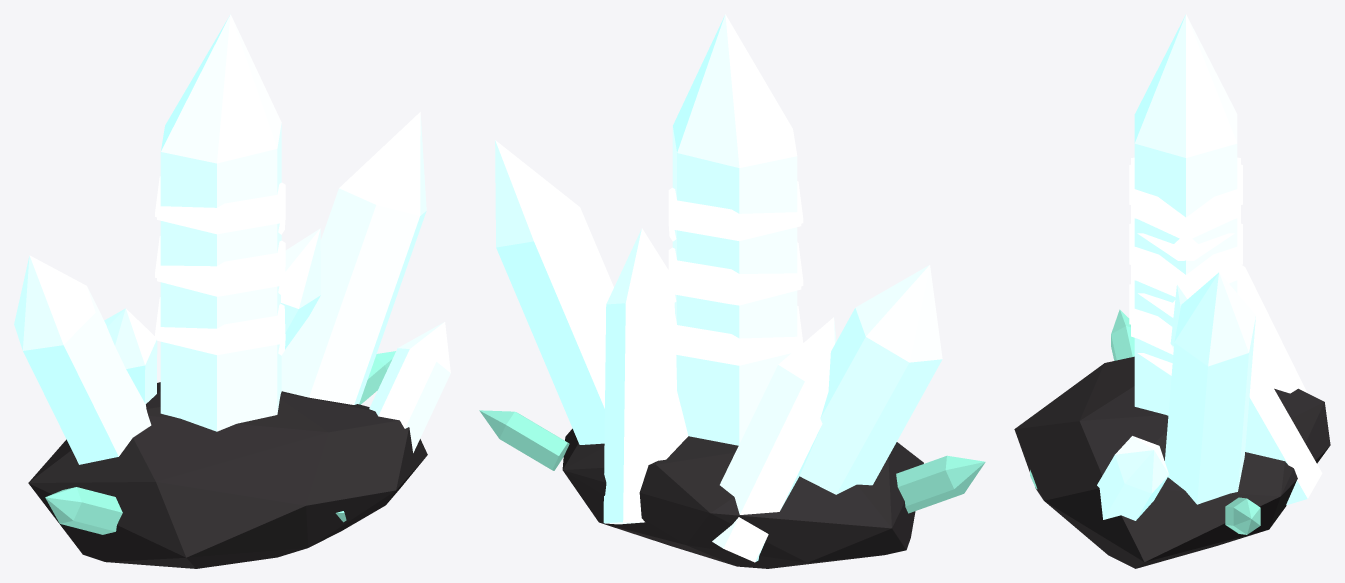
The model's file is airah_crystalline.glb.
The picture shows the model from 3 angles, left to right: view 1: azimuth 30°, elevation 25°; view 2: azimuth 150°, elevation 25°; view 3: azimuth 270°, elevation 25°; orthographic projection. The views are drawn at different scales.
Visible parts, largest first — view 1: airah_crystalline; view 2: airah_crystalline; view 3: airah_crystalline.
Boxes of the visible parts, x1,y1,x2,y2 form: airah_crystalline: (14,14,450,568); airah_crystalline: (479,14,985,568); airah_crystalline: (1014,14,1330,568).
Bounding box in the file's own units: 0.2545 × 0.28 × 0.1653.
